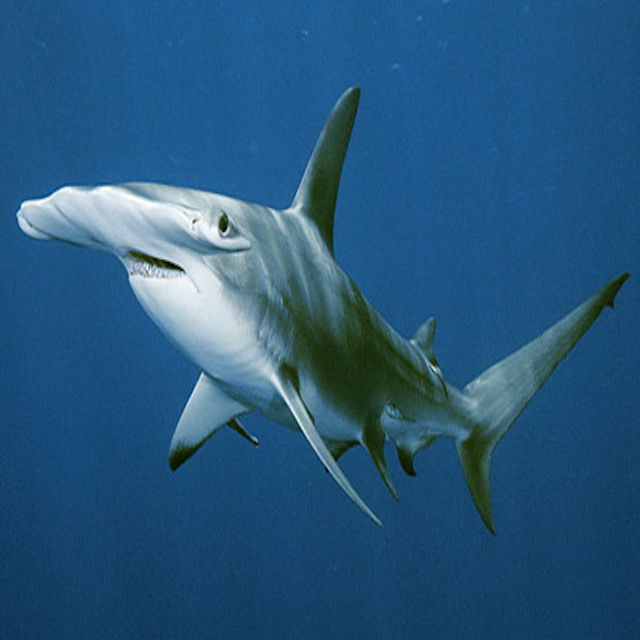hammerhead: (16, 91, 631, 539)
